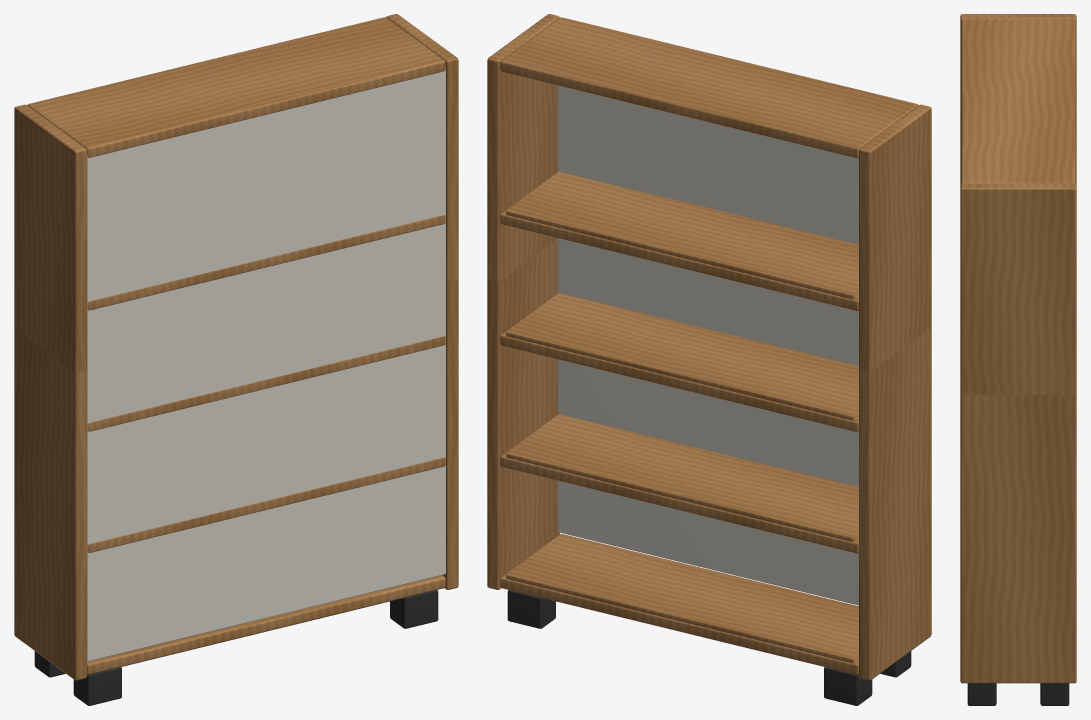
The model's file is shelf.glb.
The picture shows the model from 3 angles, left to right: view 1: azimuth 30°, elevation 25°; view 2: azimuth 150°, elevation 25°; view 3: azimuth 270°, elevation 25°; orthographic projection. The views are drawn at different scales.
Parts seen in each view (by area): view 1: SM_shelf; view 2: SM_shelf; view 3: SM_shelf.
Boxes of the visible parts, x1=… form: SM_shelf: x1=14, y1=14, x2=458, y2=705; SM_shelf: x1=487, y1=14, x2=931, y2=705; SM_shelf: x1=960, y1=14, x2=1076, y2=705.
Size of the model in its own units: 1 by 1.4 by 0.28.
3 materials, 1 textured.
